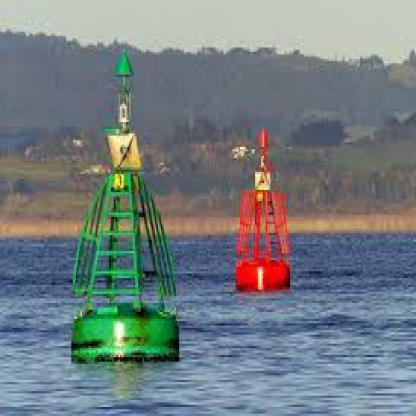buoy: (62, 45, 187, 369), (226, 122, 301, 303)
